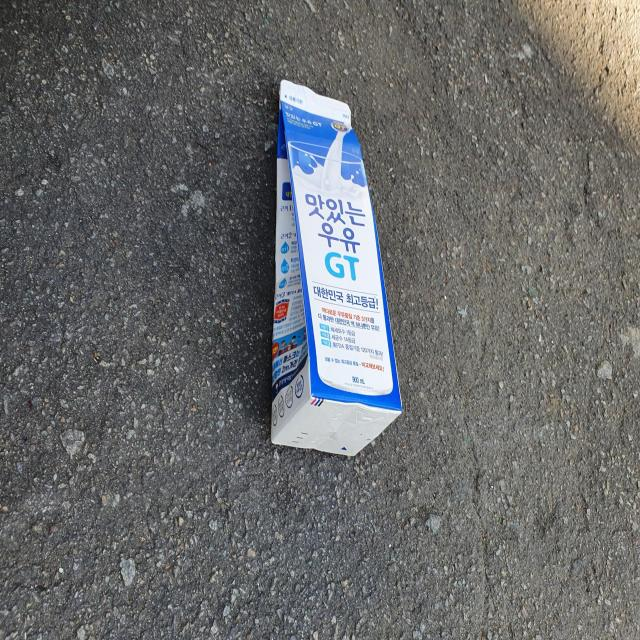paperpack: (271, 79, 402, 456)
